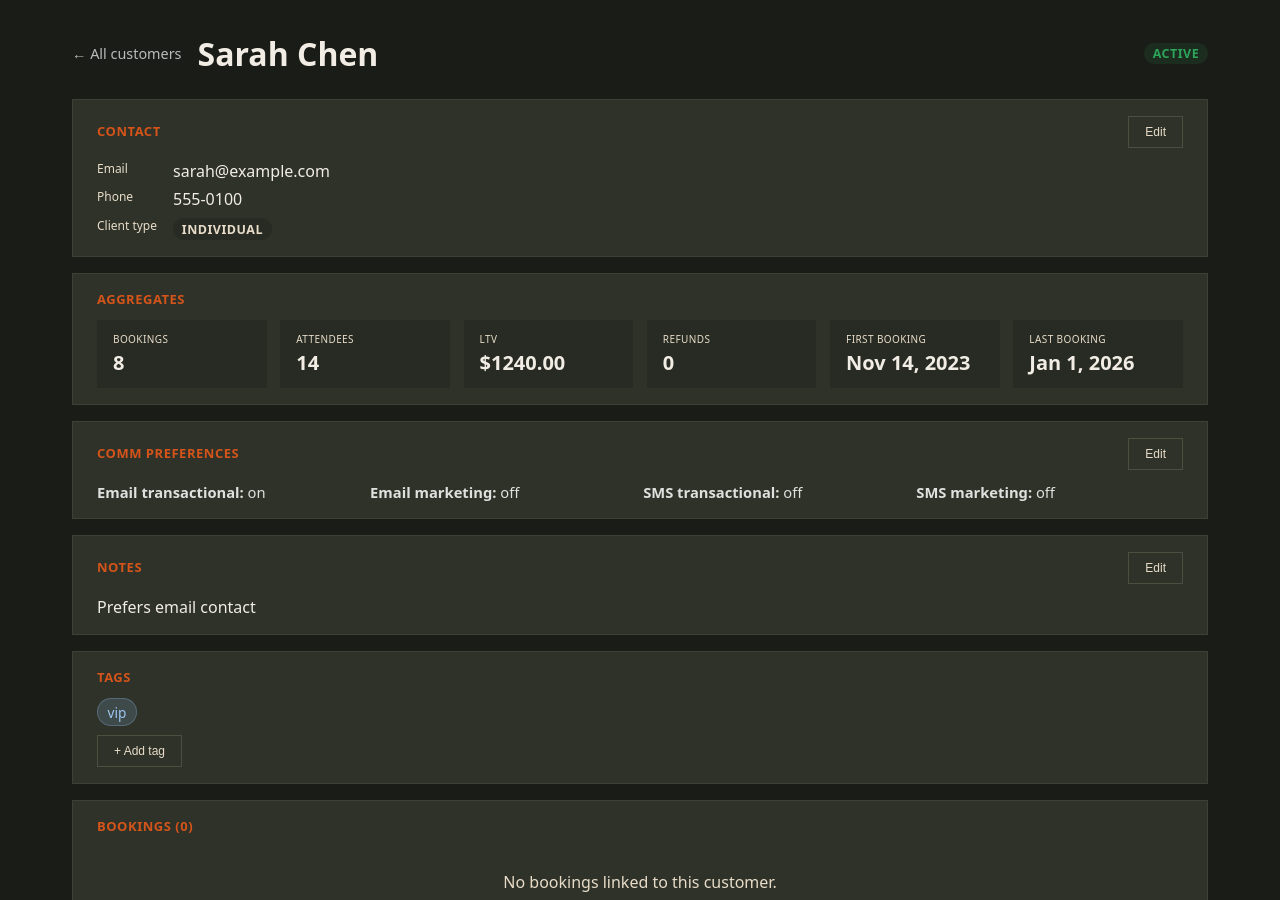
Test: AdminCustomerDetail — contact + notes modals › surfaces a server error verbatim instead of closing
This screenshot has width=1280, height=900.
expect the heading "Sarah Chen" is shown: met, box [198,32,378,75]
Step 1. Click the button with aria-label "Edit contact" → (1156, 132), box [1128,116,1183,148]
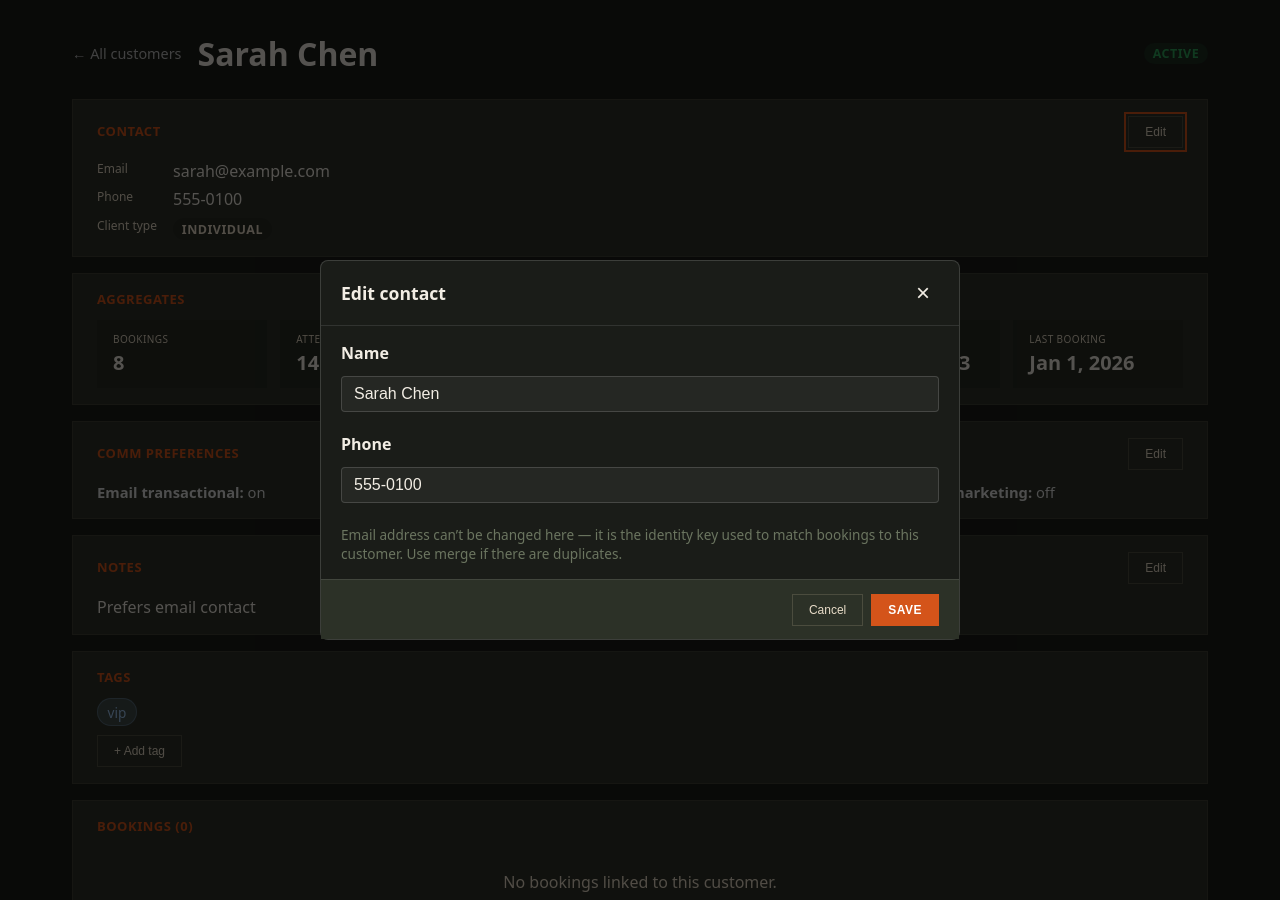
Step 2. Click the button "Save" → (905, 610), box [871,594,939,626]
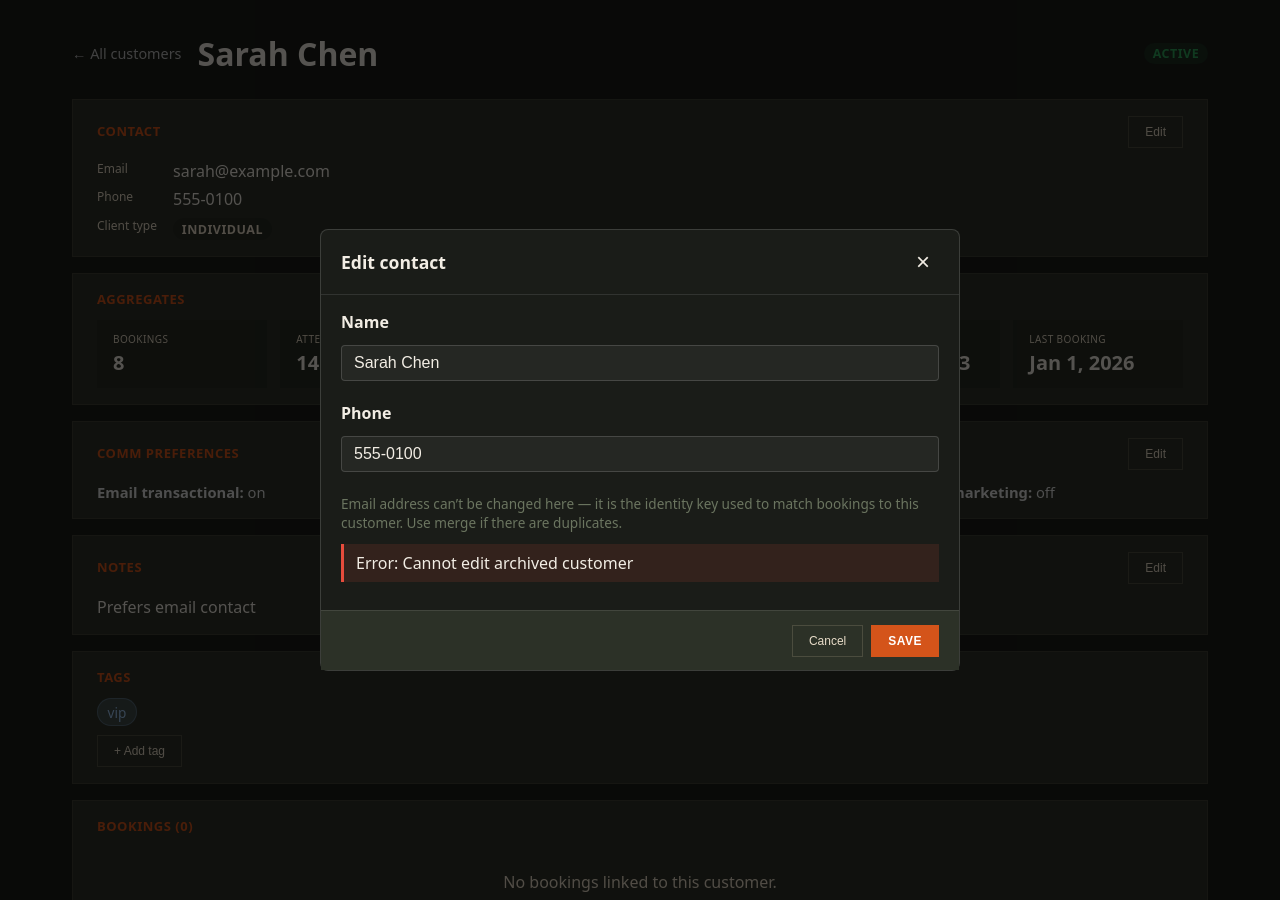
expect the heading "Edit contact" is shown: met, box [341,250,446,274]
expect the text "Error: Cannot edit archived customer" is shown: met, box [341,544,939,582]
